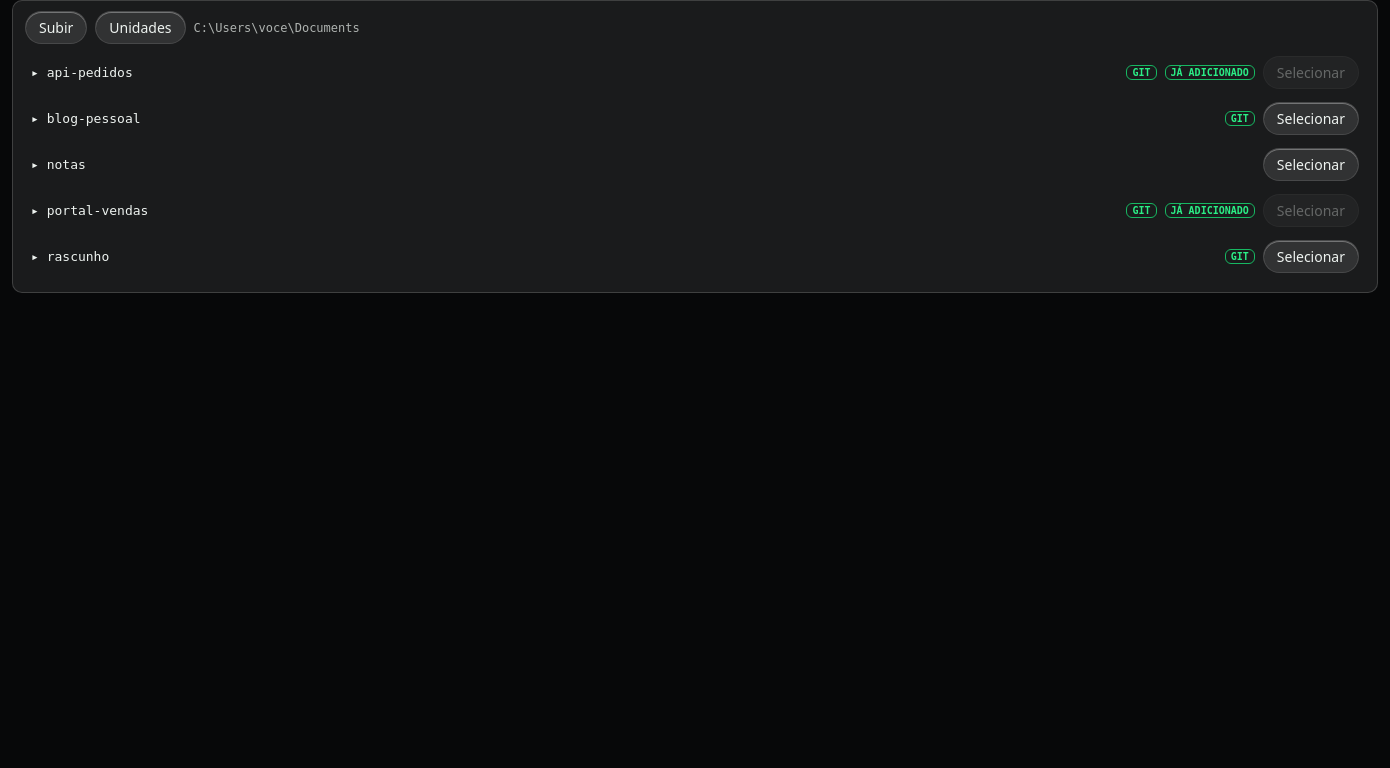
Test case: AddRepoForm › desabilita o botão com nome inválido
Click the 2nd button "Selecionar": (1311, 118) [1263,102,1359,135]
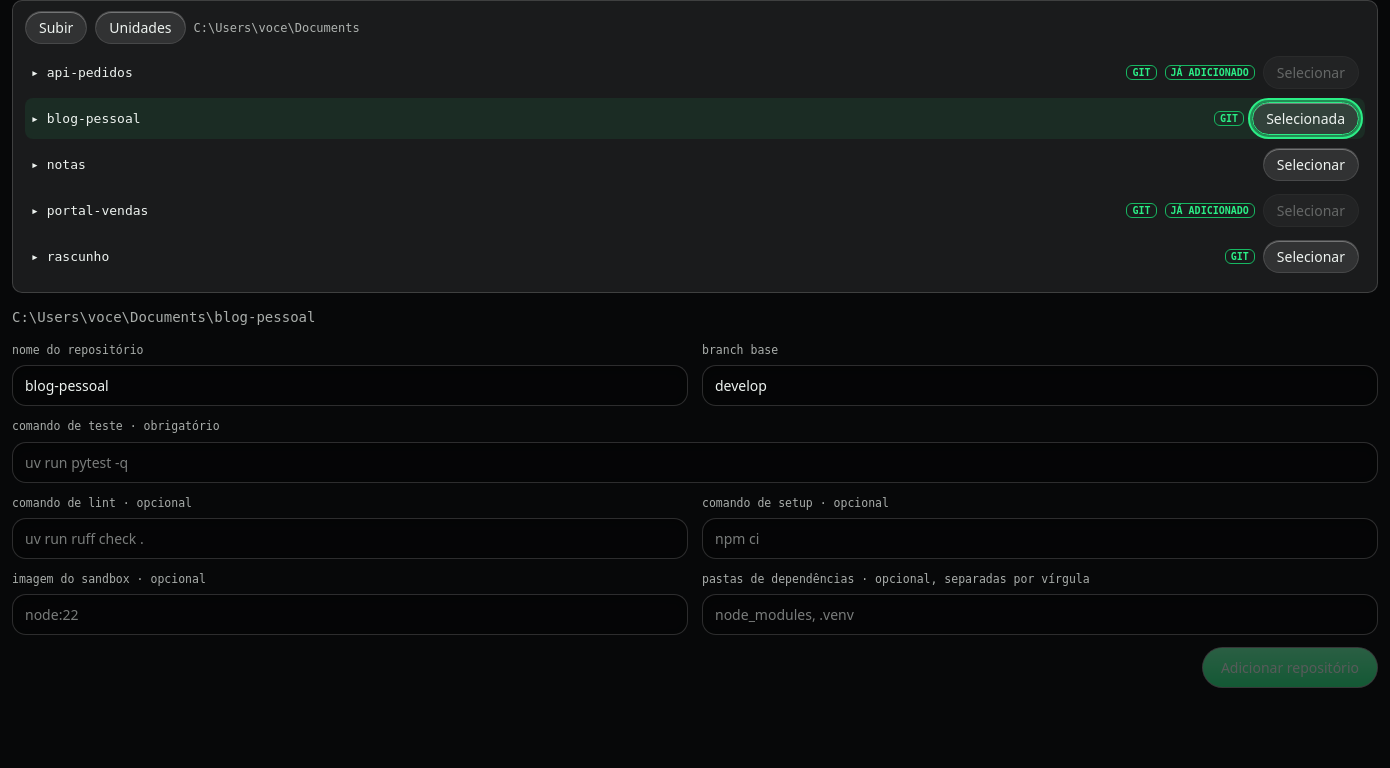
Expected: the field labelled "nome do repositório" holds "blog-pessoal", [12,365,688,406]
In the field labelled "comando de teste · obrigatório": (695, 462) [12,442,1378,482], type "npm test"
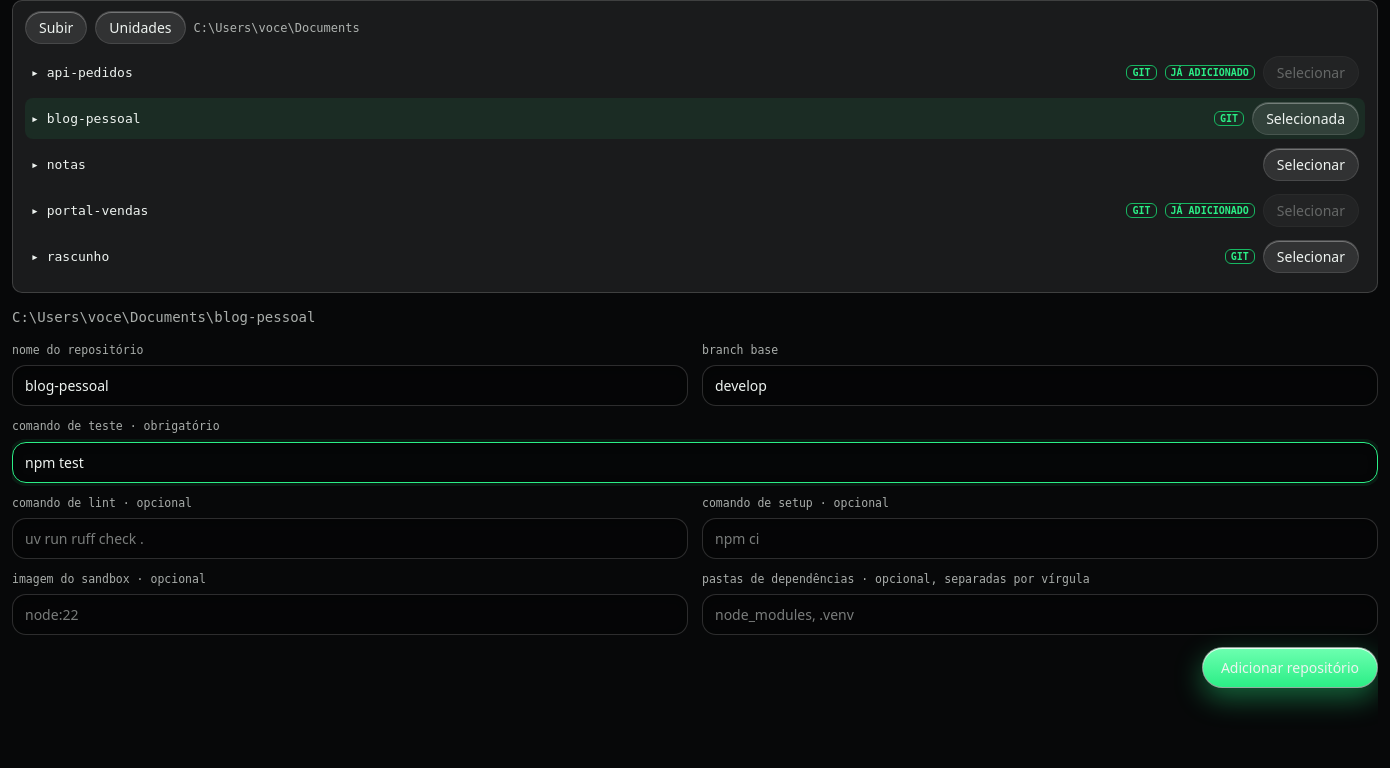
Replace the text in the field labelled "nome do repositório" with "blog pessoal": (350, 386) [12,365,688,406]
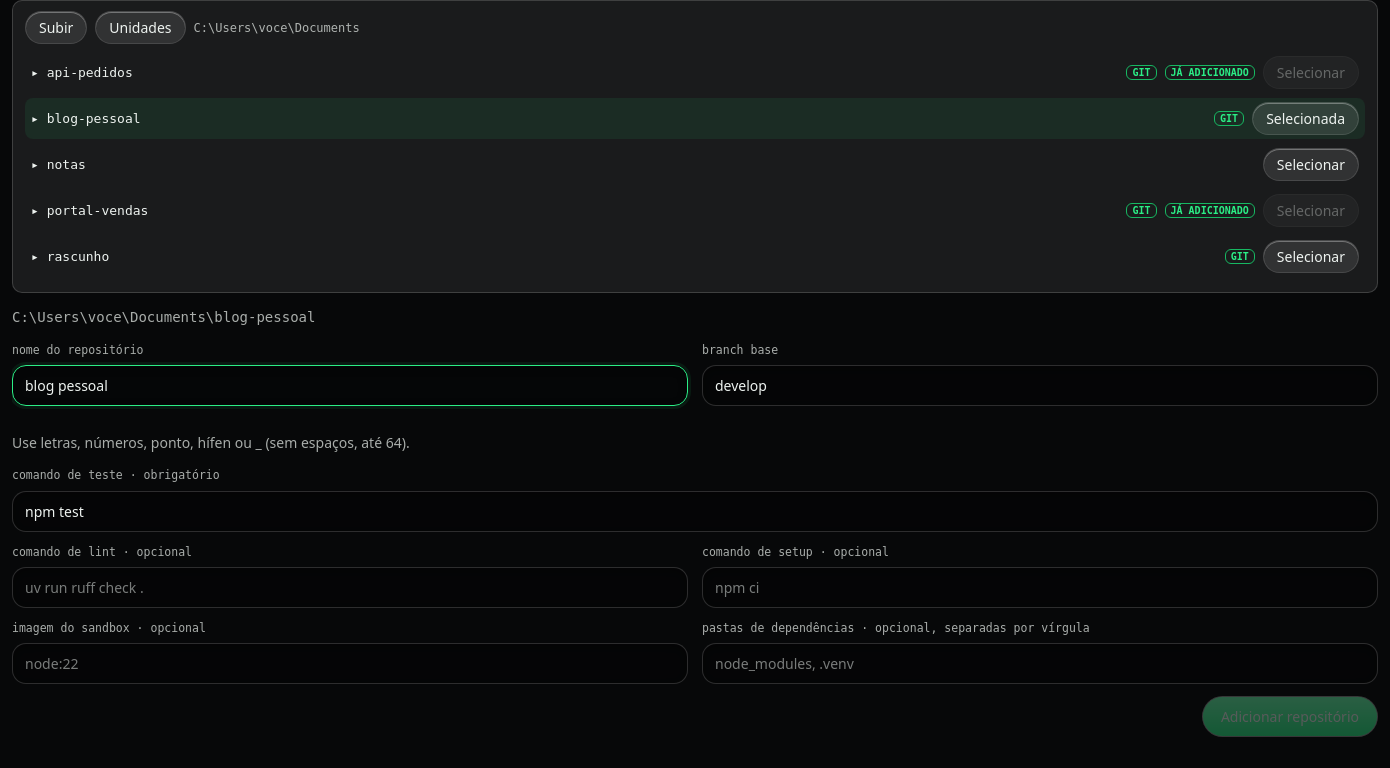
Expected: the button "Adicionar repositório" is disabled, [1202,696,1378,737]
Expected: the text "sem espaços" is shown, [12,433,410,452]
